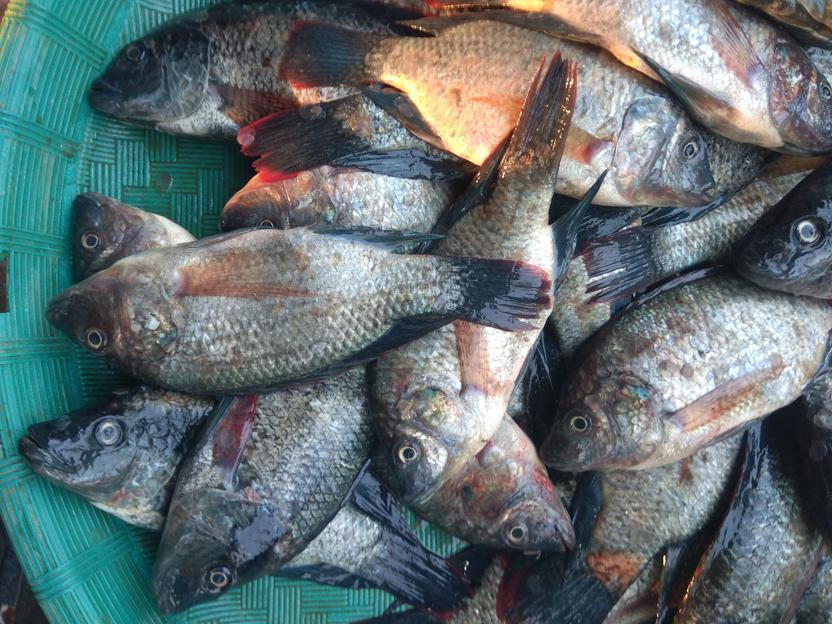Fish head: (22, 384, 190, 535), (46, 254, 186, 383), (368, 381, 503, 510), (151, 485, 290, 610), (539, 350, 669, 474), (87, 6, 213, 133), (736, 157, 831, 302), (442, 452, 578, 552), (614, 91, 716, 210), (70, 191, 172, 282), (218, 170, 348, 236), (767, 29, 832, 154)
Fish tail: (241, 93, 367, 175), (504, 50, 579, 178), (359, 523, 461, 612), (442, 254, 554, 335), (279, 21, 394, 83), (583, 225, 663, 307), (535, 555, 620, 624)
